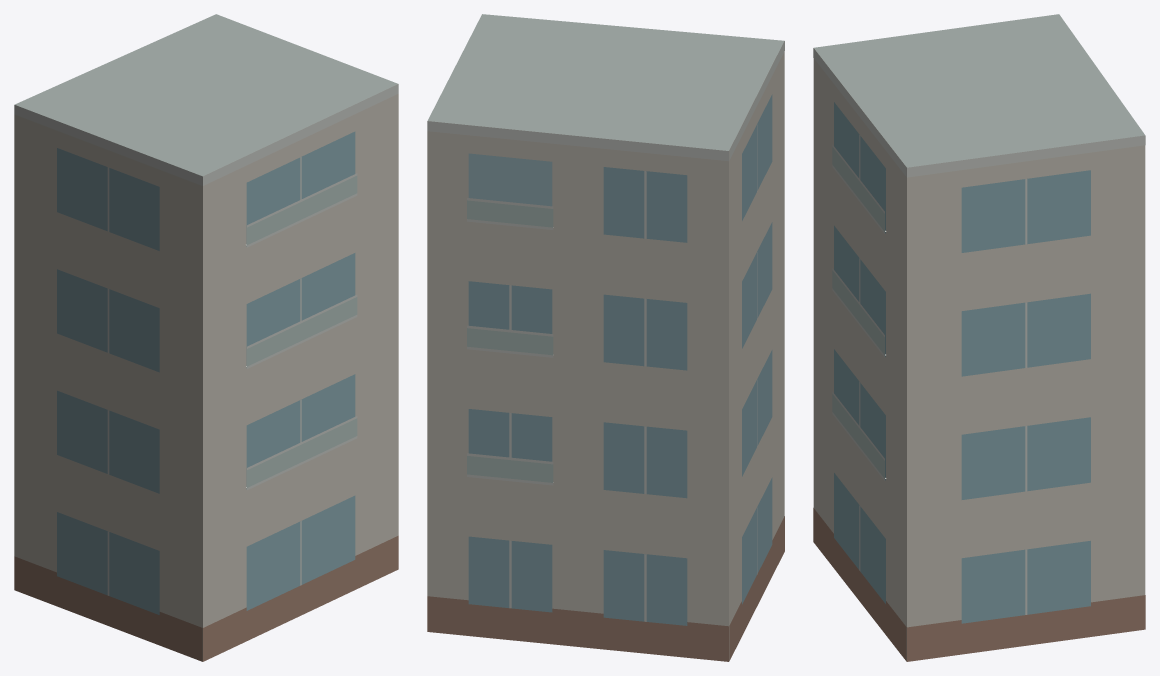
The model's file is survey-upis-32645847.glb.
3 renders of one model, left to right at view 1: azimuth 30°, elevation 25°; view 2: azimuth 150°, elevation 25°; view 3: azimuth 270°, elevation 25°, orthographic. The views are drawn at different scales.
Parts seen in each view (by area): view 1: survey-upis-32645847.tmp; view 2: survey-upis-32645847.tmp; view 3: survey-upis-32645847.tmp.
Part boxes in pixels (<box>): survey-upis-32645847.tmp: <box>14,14,398,661</box>; survey-upis-32645847.tmp: <box>427,14,784,661</box>; survey-upis-32645847.tmp: <box>813,14,1145,661</box>.
Size of the model in its own units: 8.15 by 12.2 by 7.44.
